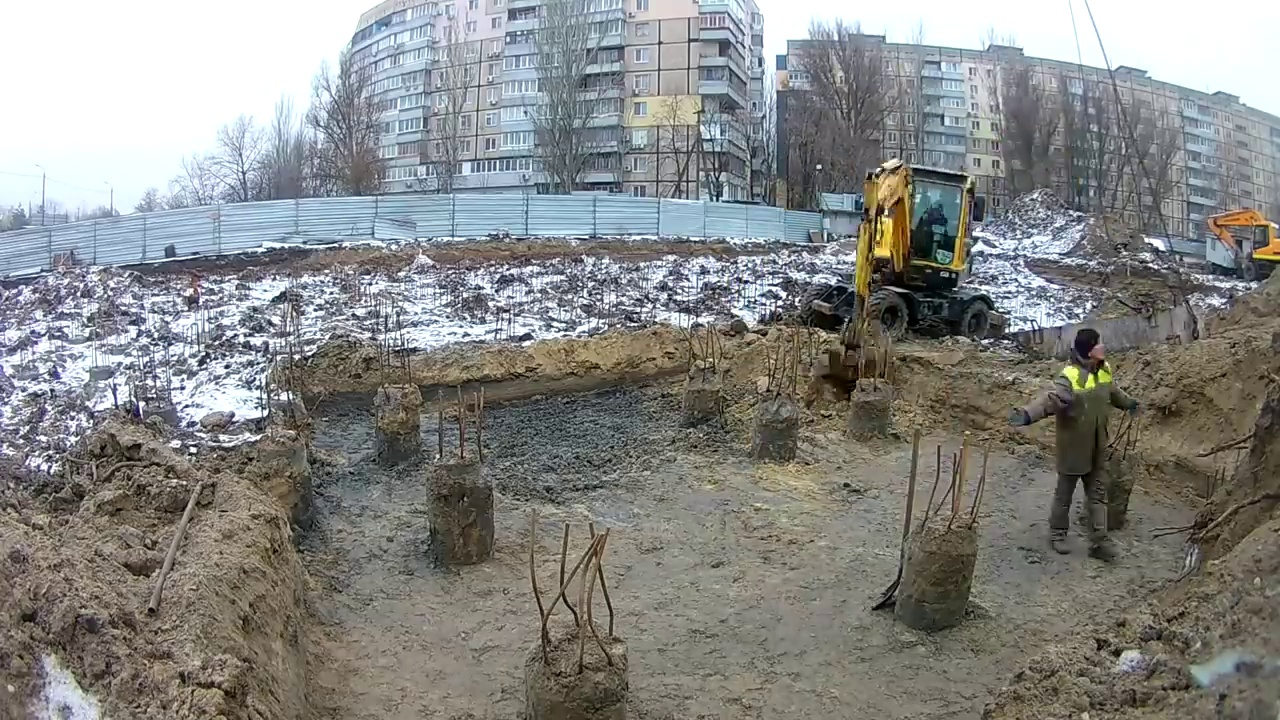helmet-off: (1073, 331, 1105, 369)
person: (1005, 327, 1131, 564)
